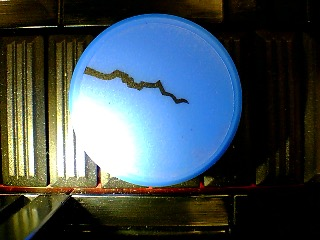CRACK: (69, 10, 243, 187)
